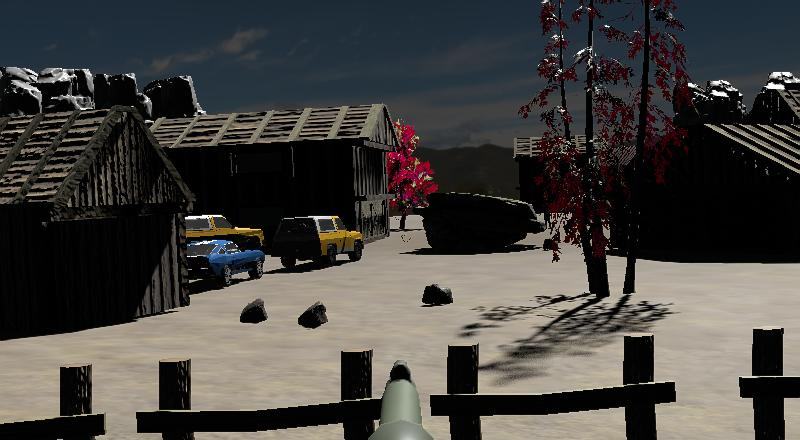House: (1, 108, 196, 339), (148, 105, 401, 246), (609, 122, 800, 263), (514, 132, 613, 194)
car: (272, 214, 365, 270), (185, 238, 265, 288), (184, 213, 263, 246)
